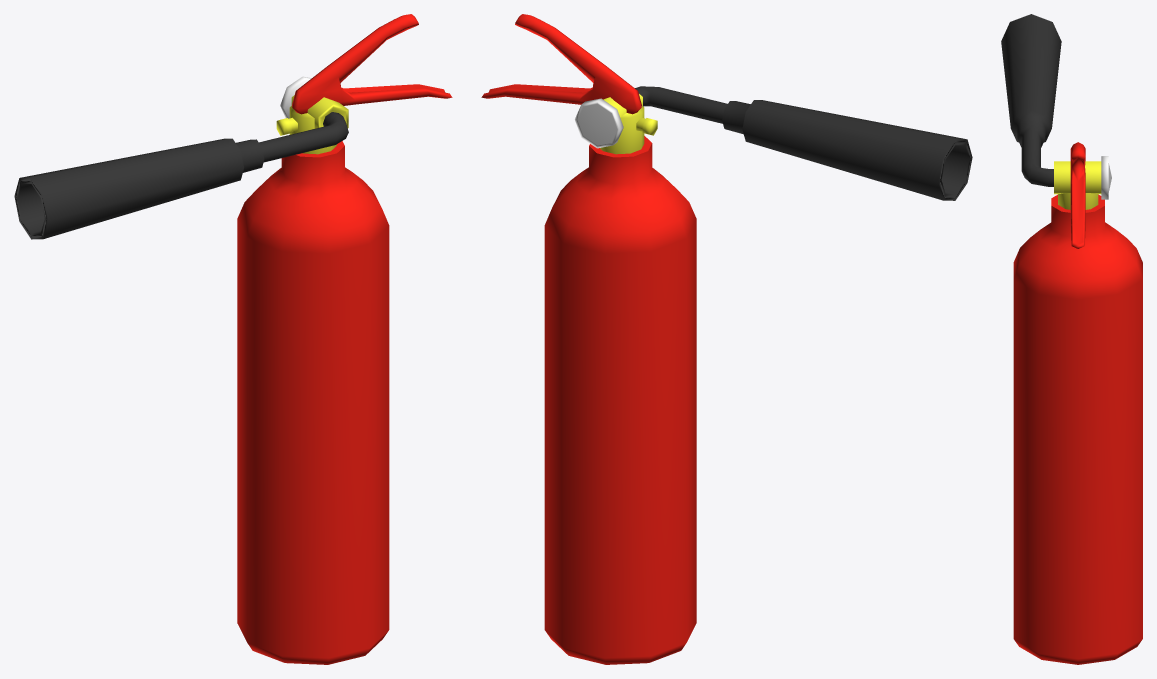
Rendered from fire-extinguisher.fbx.
3 renders of one model, left to right at view 1: azimuth 30°, elevation 25°; view 2: azimuth 150°, elevation 25°; view 3: azimuth 270°, elevation 25°, orthographic. The views are drawn at different scales.
Parts seen in each view (by area): view 1: fire_extinguisher; view 2: fire_extinguisher; view 3: fire_extinguisher.
Boxes of the visible parts, bbox=[...] form: fire_extinguisher: bbox=[14, 14, 452, 664]; fire_extinguisher: bbox=[481, 14, 972, 664]; fire_extinguisher: bbox=[1001, 14, 1142, 664].
Bounding box in the file's own units: 4.32 × 5.67 × 1.34.
Materials: 1 (1 with a texture image).
